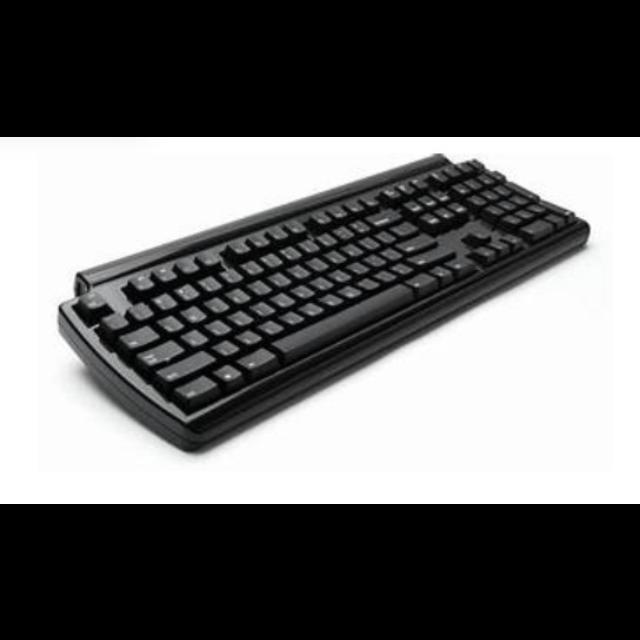Computer-Keyboard: (56, 152, 591, 454)
